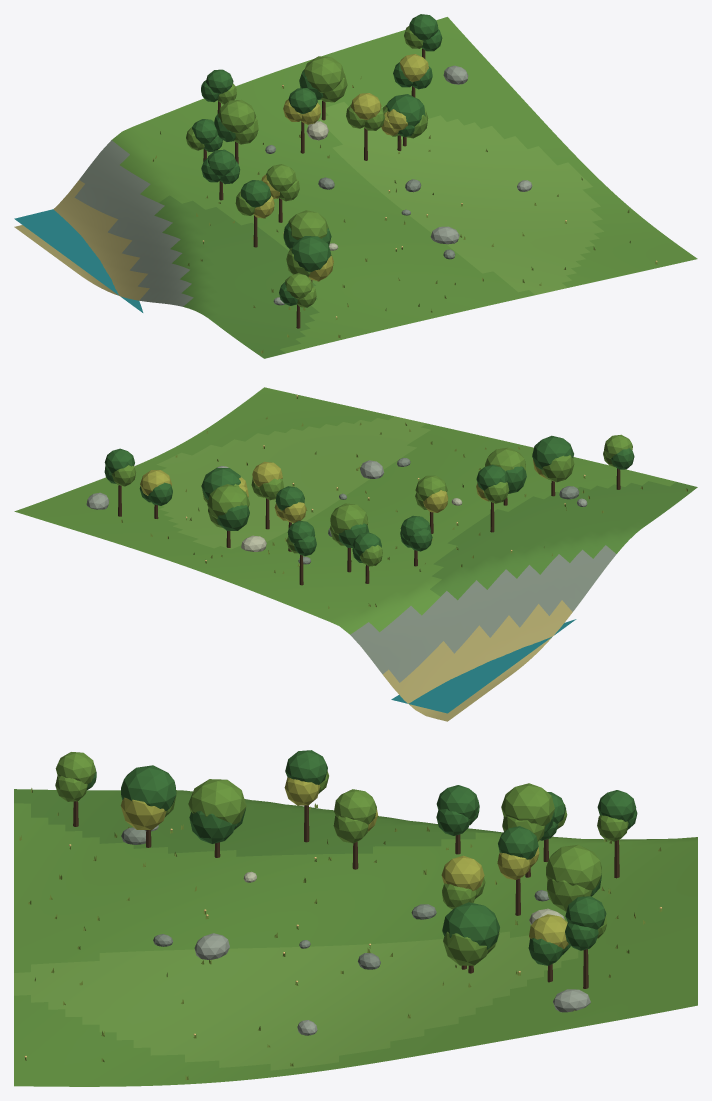
The model's file is Chunk_X1_Y0_Z0.fbx.
3 renders of one model, top to bottom at view 1: azimuth 30°, elevation 25°; view 2: azimuth 150°, elevation 25°; view 3: azimuth 270°, elevation 25°, orthographic. The views are drawn at different scales.
Parts seen in each view (by area): view 1: Terrain.031, Canopies.030, Water.007, Rocks.031, Trunks.030, GroundCover.031; view 2: Terrain.031, Canopies.030, Water.007, Rocks.031, Trunks.030, GroundCover.031; view 3: Terrain.031, Canopies.030, Rocks.031, Trunks.030, GroundCover.031.
Boxes of the visible parts, bbox=[...] form: Terrain.031: bbox=[14, 17, 697, 358]; Canopies.030: bbox=[186, 14, 442, 307]; Water.007: bbox=[14, 209, 143, 312]; Rocks.031: bbox=[265, 65, 532, 305]; Trunks.030: bbox=[203, 48, 425, 328]; GroundCover.031: bbox=[152, 76, 657, 353]; Terrain.031: bbox=[14, 387, 697, 721]; Canopies.030: bbox=[104, 434, 634, 566]; Water.007: bbox=[391, 619, 576, 713]; Rocks.031: bbox=[86, 458, 587, 564]; Trunks.030: bbox=[118, 468, 620, 585]; GroundCover.031: bbox=[121, 395, 687, 608]; Terrain.031: bbox=[14, 789, 697, 1086]; Canopies.030: bbox=[55, 750, 637, 965]; Rocks.031: bbox=[121, 825, 590, 1035]; Trunks.030: bbox=[73, 801, 619, 988]; GroundCover.031: bbox=[19, 788, 662, 1080].
Size of the model in its own units: 100 by 33.42 by 100.
